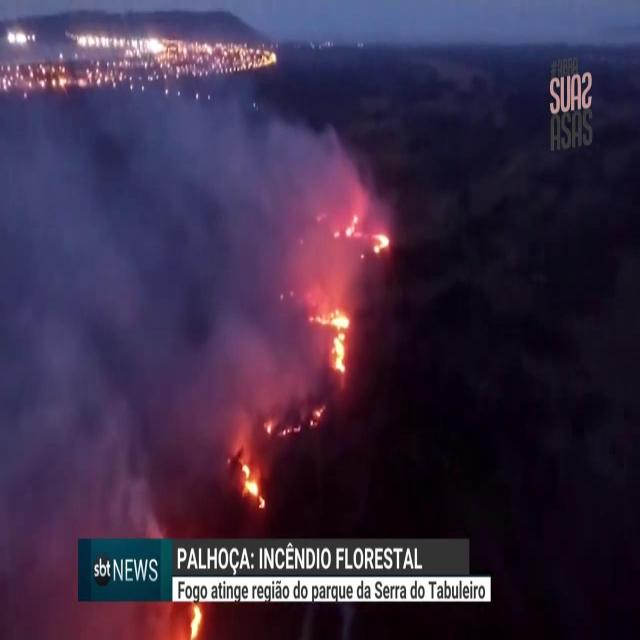Fire: (306, 308, 348, 376), (260, 399, 326, 436), (239, 466, 267, 509), (188, 606, 202, 639), (371, 231, 391, 253), (346, 215, 358, 237)
